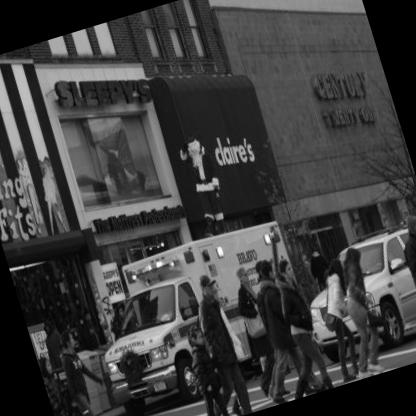ambulance: (64, 200, 339, 416)
car: (296, 214, 416, 360)
